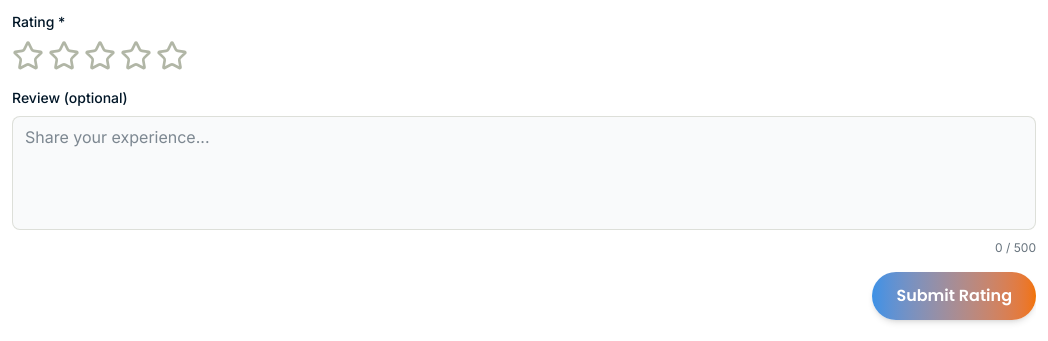
it: RatingForm › shows character count for review
Type "Test review" into the text box labelled "Review (optional)". click: (524, 173)
box: [12,116,1036,230]
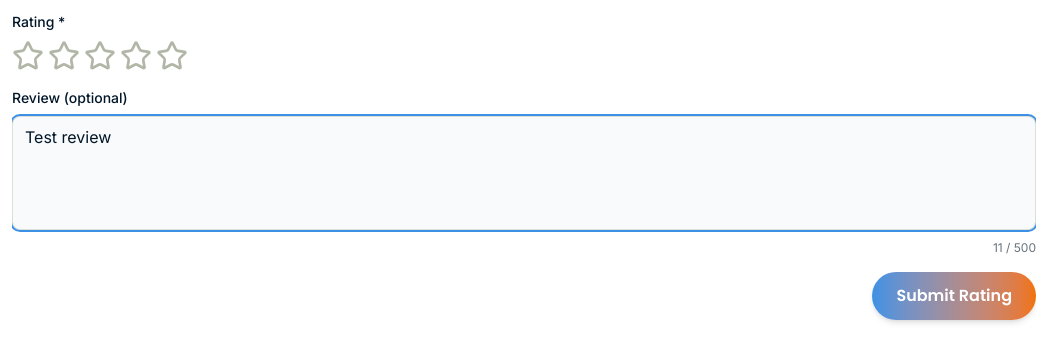
Now the text "11 / 500" is shown, box [993,240,1036,255]
